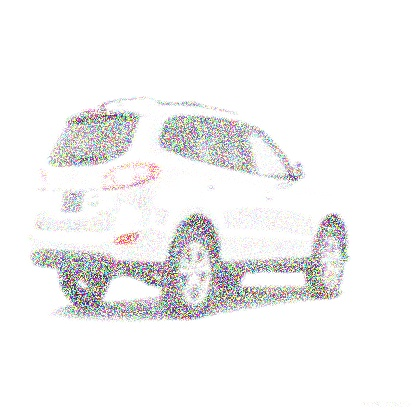Vehicle: (27, 96, 363, 322)
